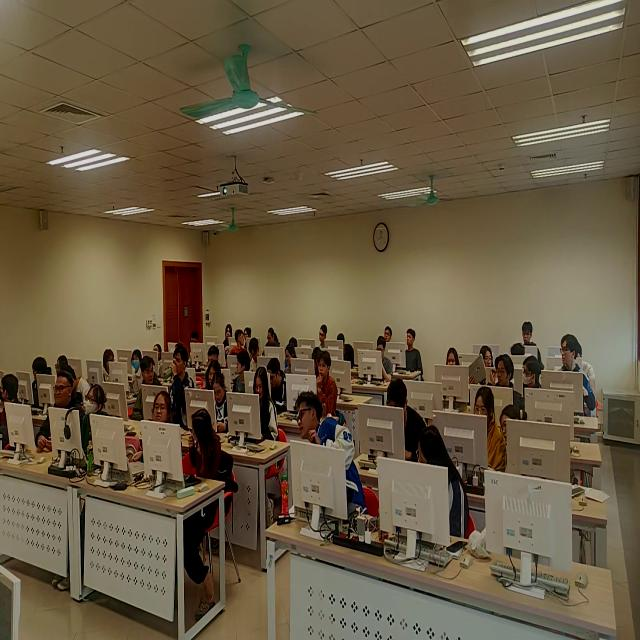raise_head: (295, 387, 366, 516), (37, 371, 84, 452), (561, 334, 594, 409), (168, 344, 194, 425), (82, 382, 109, 459), (316, 348, 339, 415), (403, 327, 425, 376), (490, 352, 516, 390), (151, 390, 173, 424), (129, 349, 143, 391), (444, 346, 463, 367), (207, 361, 220, 388), (225, 320, 234, 342), (384, 324, 395, 342), (154, 343, 164, 360)
using_computer: (386, 381, 429, 463), (252, 367, 280, 441), (267, 354, 288, 416), (373, 337, 396, 384), (213, 372, 229, 435), (31, 355, 50, 406), (336, 332, 356, 365), (188, 329, 203, 370), (68, 366, 89, 395), (284, 341, 298, 375), (285, 343, 298, 375), (250, 336, 261, 372), (265, 326, 282, 347), (509, 339, 527, 358), (54, 356, 70, 377), (522, 319, 535, 344), (206, 344, 220, 365), (318, 323, 329, 349), (189, 327, 201, 345), (245, 325, 254, 339)
